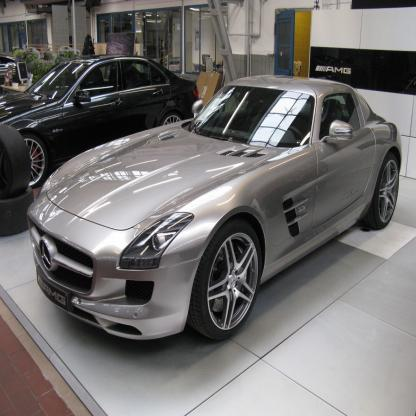Car: (27, 79, 402, 343), (1, 54, 201, 192), (1, 54, 19, 88), (60, 47, 71, 57)
